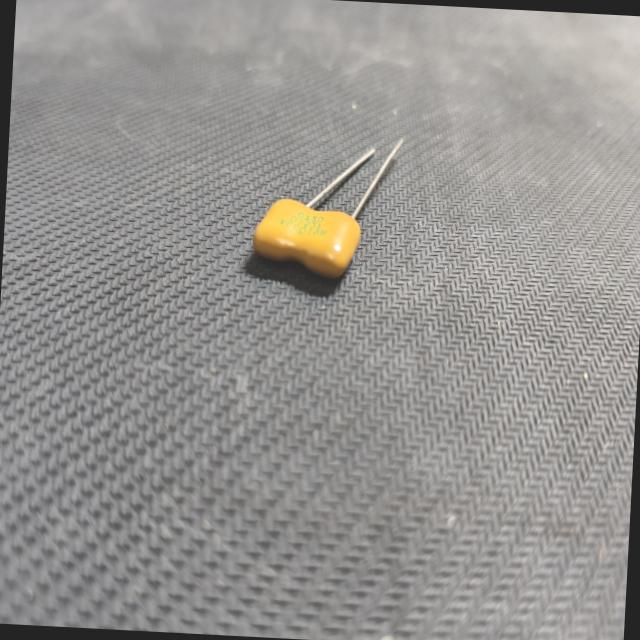resistor: (240, 119, 410, 289)
